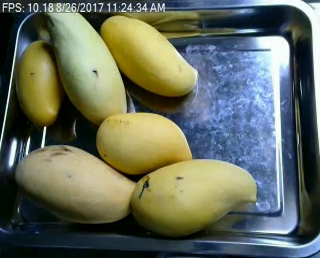Mango: (40, 0, 127, 126), (15, 145, 138, 226), (129, 159, 256, 237), (100, 14, 197, 97), (96, 112, 189, 173), (16, 39, 62, 125)
